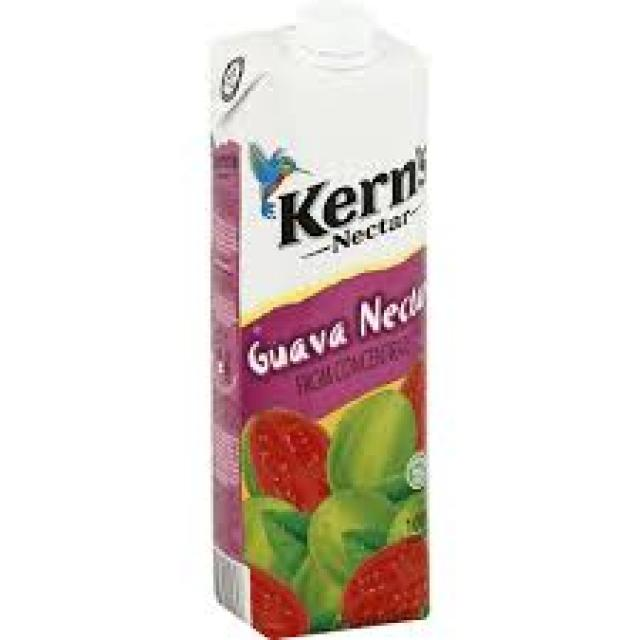non_white_jug: (172, 0, 445, 631)
